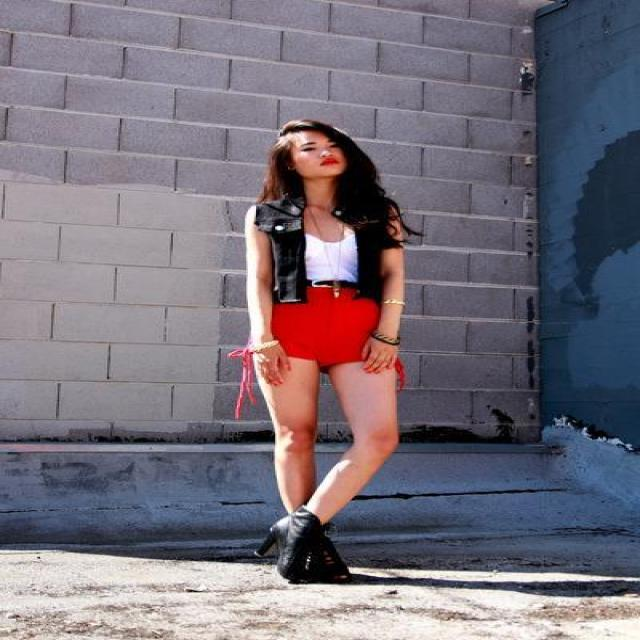jacket: (254, 219, 402, 309)
shirt: (306, 227, 356, 286)
shoe: (274, 499, 336, 560)
skirt: (270, 282, 381, 364)
